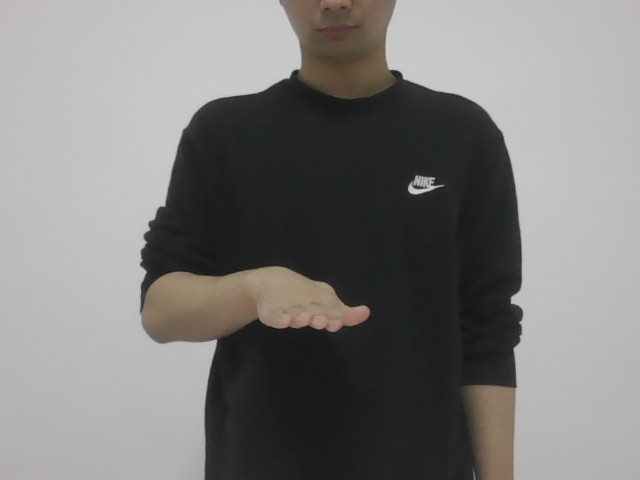slow: (257, 257, 374, 341)
